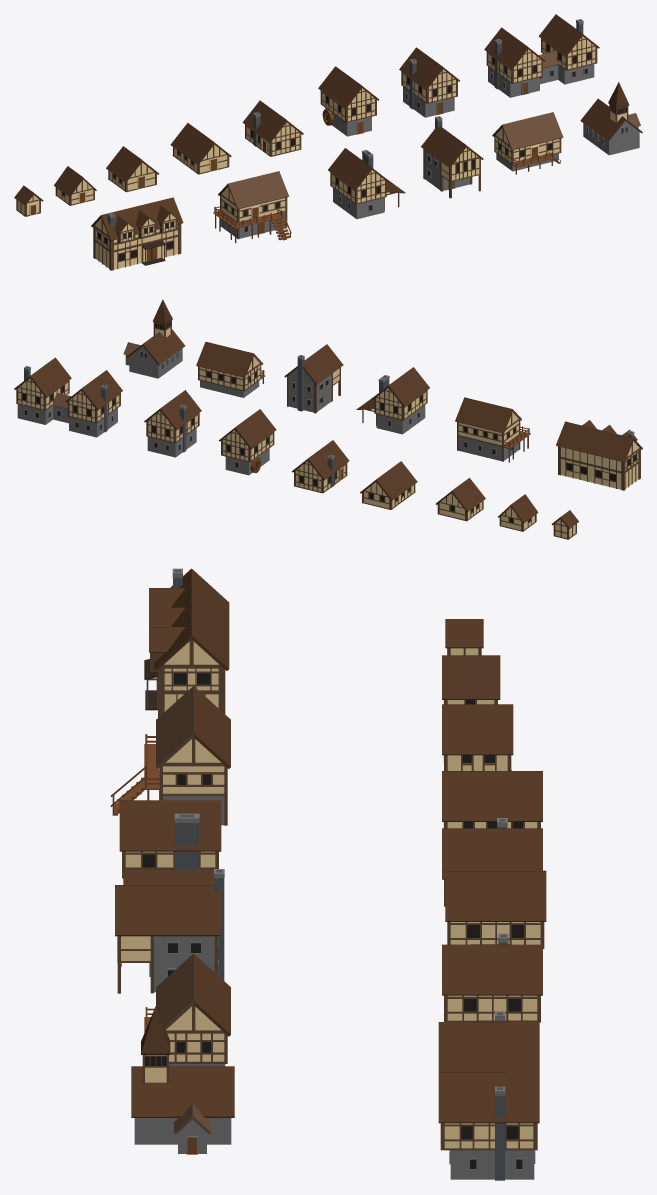
The model's file is 中世纪房子.fbx.
3 views of the same model, one above another, from view 1: azimuth 30°, elevation 25°; view 2: azimuth 150°, elevation 25°; view 3: azimuth 270°, elevation 25° (orthographic). The views are drawn at different scales.
Parts seen in each view (by area): view 1: mergedBlocks; view 2: mergedBlocks; view 3: mergedBlocks.
Boxes of the visible parts, left/top/right/bottom form: mergedBlocks: left=14, top=14, right=642, bottom=270; mergedBlocks: left=14, top=299, right=642, bottom=539; mergedBlocks: left=110, top=568, right=546, bottom=1180.
Size of the model in its own units: 380 by 41.76 by 132.
